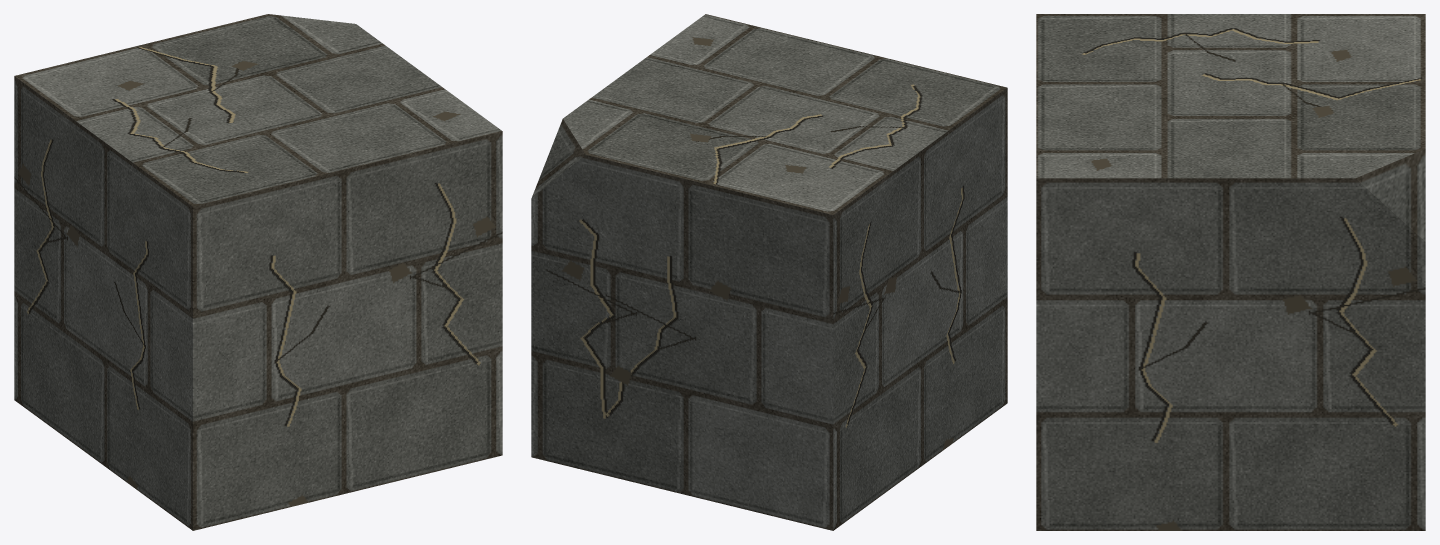
Rendered from mount_z1.glb.
3 renders of one model, left to right at view 1: azimuth 30°, elevation 25°; view 2: azimuth 150°, elevation 25°; view 3: azimuth 270°, elevation 25°, orthographic. The views are drawn at different scales.
Parts seen in each view (by area): view 1: mount_z1; view 2: mount_z1; view 3: mount_z1.
Boxes of the visible parts, left/top/right/bottom form: mount_z1: left=14, top=14, right=502, bottom=530; mount_z1: left=531, top=14, right=1007, bottom=530; mount_z1: left=1036, top=14, right=1425, bottom=530.
Bounding box in the file's own units: 1 × 1 × 1.
Materials: 1 (1 with a texture image).
